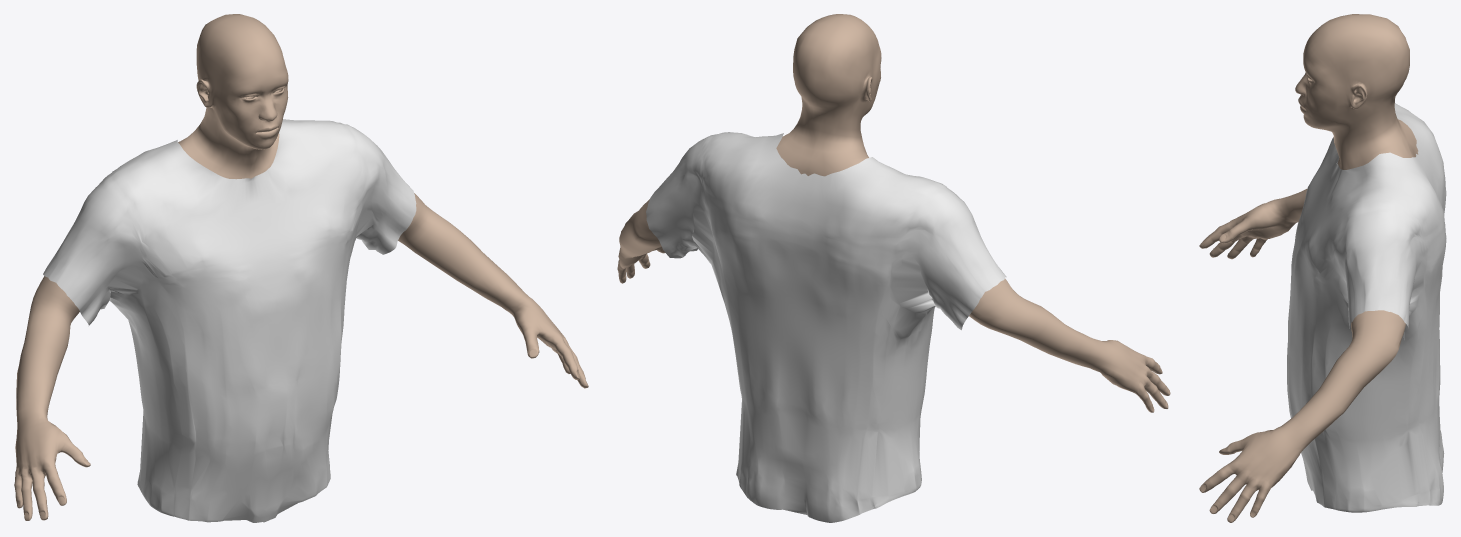
The picture shows the model from 3 angles, left to right: view 1: azimuth 30°, elevation 25°; view 2: azimuth 150°, elevation 25°; view 3: azimuth 270°, elevation 25°; orthographic projection. The views are drawn at different scales.
Visible parts, largest first — view 1: Cube, Base; view 2: Cube, Base; view 3: Cube, Base.
Boxes of the visible parts, x1,y1,x2,y2 form: Cube: (43,119,416,522); Base: (14,14,588,520); Cube: (646,132,1006,522); Base: (617,14,1170,412); Cube: (1287,103,1446,512); Base: (1199,14,1418,522).
Bounding box in the file's own units: 10.56 × 8.69 × 4.15.
